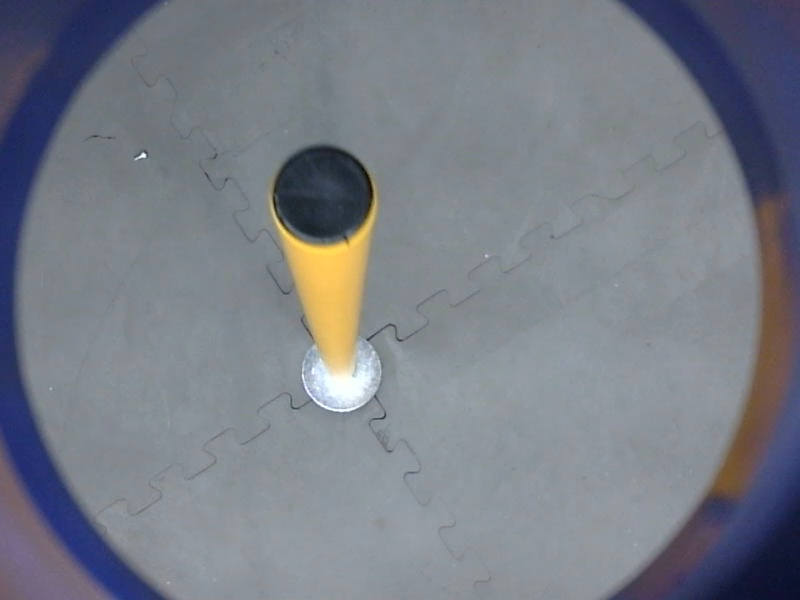tip: (262, 138, 384, 253)
